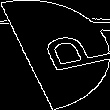P_W: (11, 30, 99, 80)
